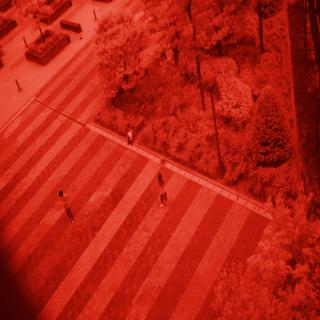person: (53, 186, 83, 227), (153, 167, 175, 214)
